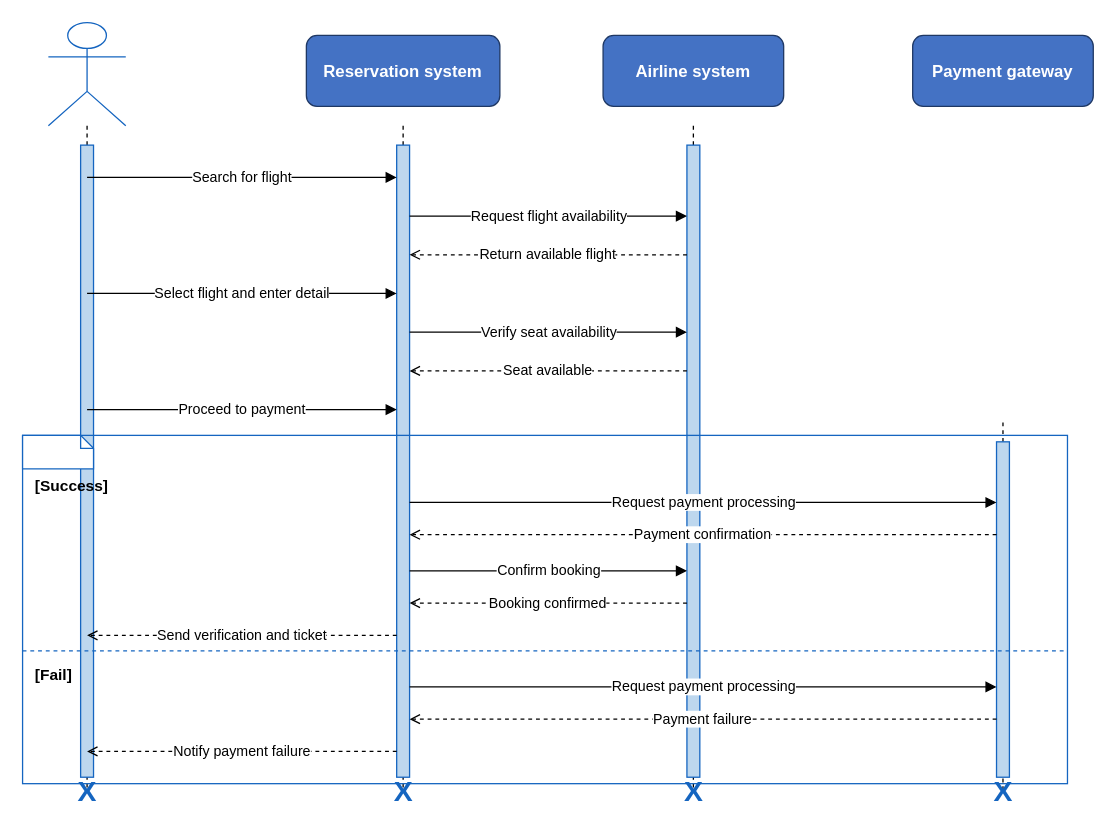
This 1116x832 diagram has some shape labels left out. Each missing label, with the centre of its shape:
"alt" belongs at point 57,451.
"Customer" belongs at point 86,73.
